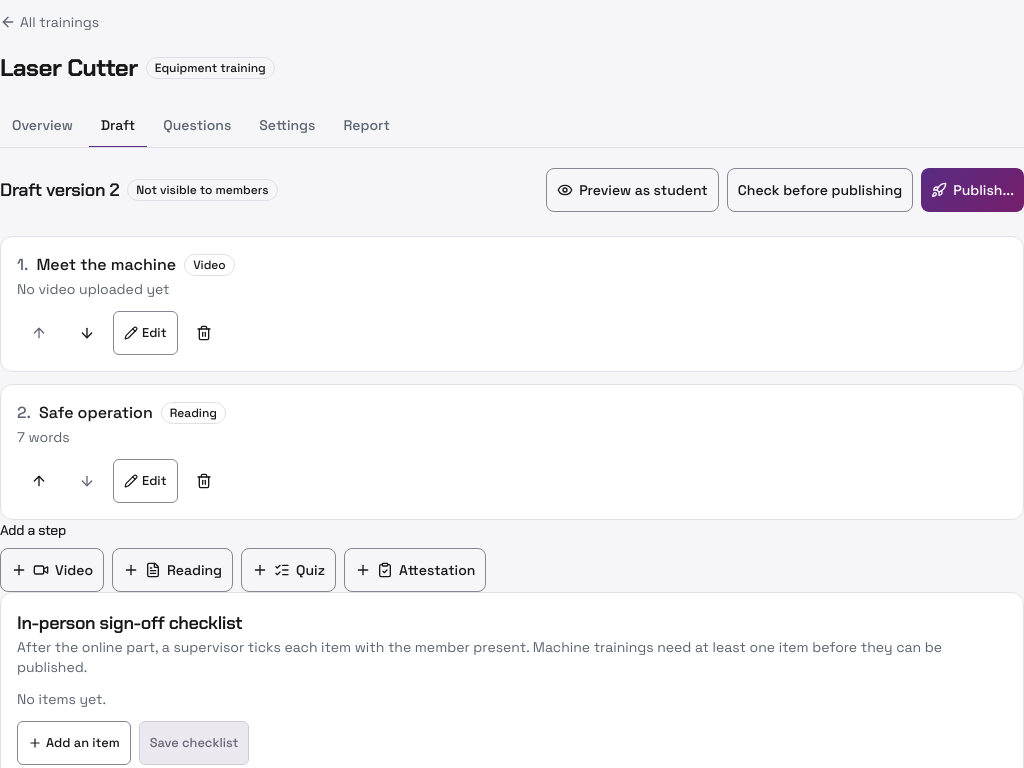
Scenario: DraftEditor › opens an existing step for editing
The image size is (1024, 768).
Expected: the heading "Laser Cutter" is shown, [0,52,138,84]
Expected: the heading "Draft version 2" is shown, [0,176,119,204]
What coordinates should you click on to do the following:
click the button with aria-label "Edit step 2"
I would click on:
 (145, 481)
Its box is [113,459,178,503].
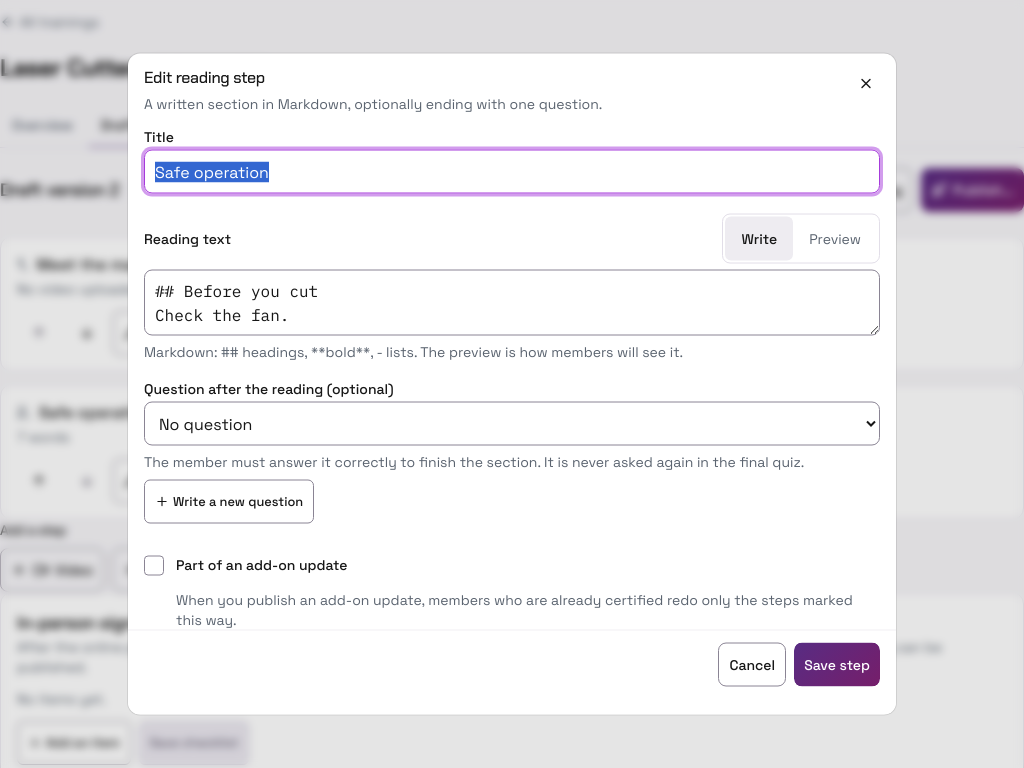
Result: the field labelled "Title" holds "Safe operation" at [144,150,880,194]
